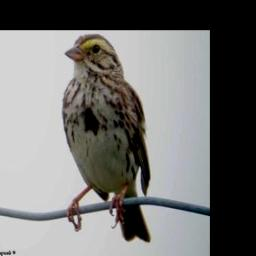Sparrow: (62, 32, 154, 243)
